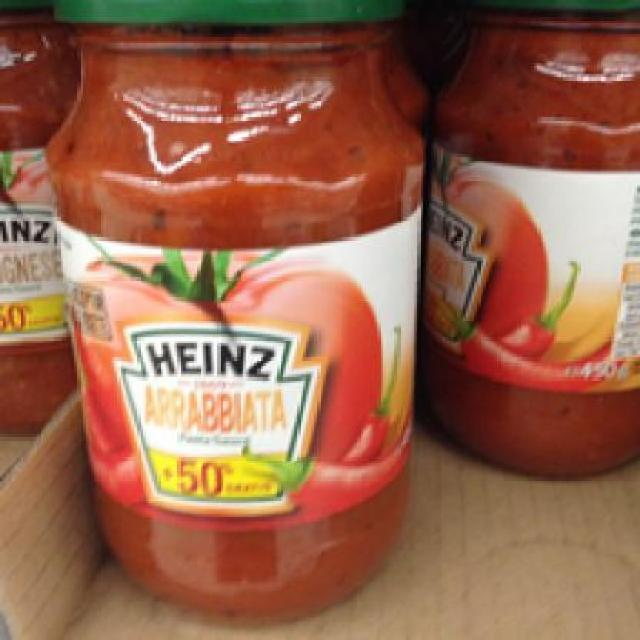Tomato Sauce: (40, 0, 423, 620), (420, 0, 637, 483)
